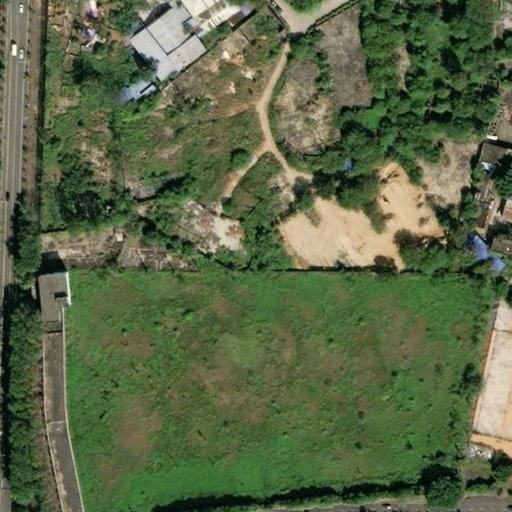building: (309, 2, 378, 113), (34, 266, 71, 326), (110, 65, 157, 107), (465, 170, 496, 229), (231, 10, 266, 45), (494, 172, 512, 224), (485, 237, 512, 255), (494, 149, 512, 172)
